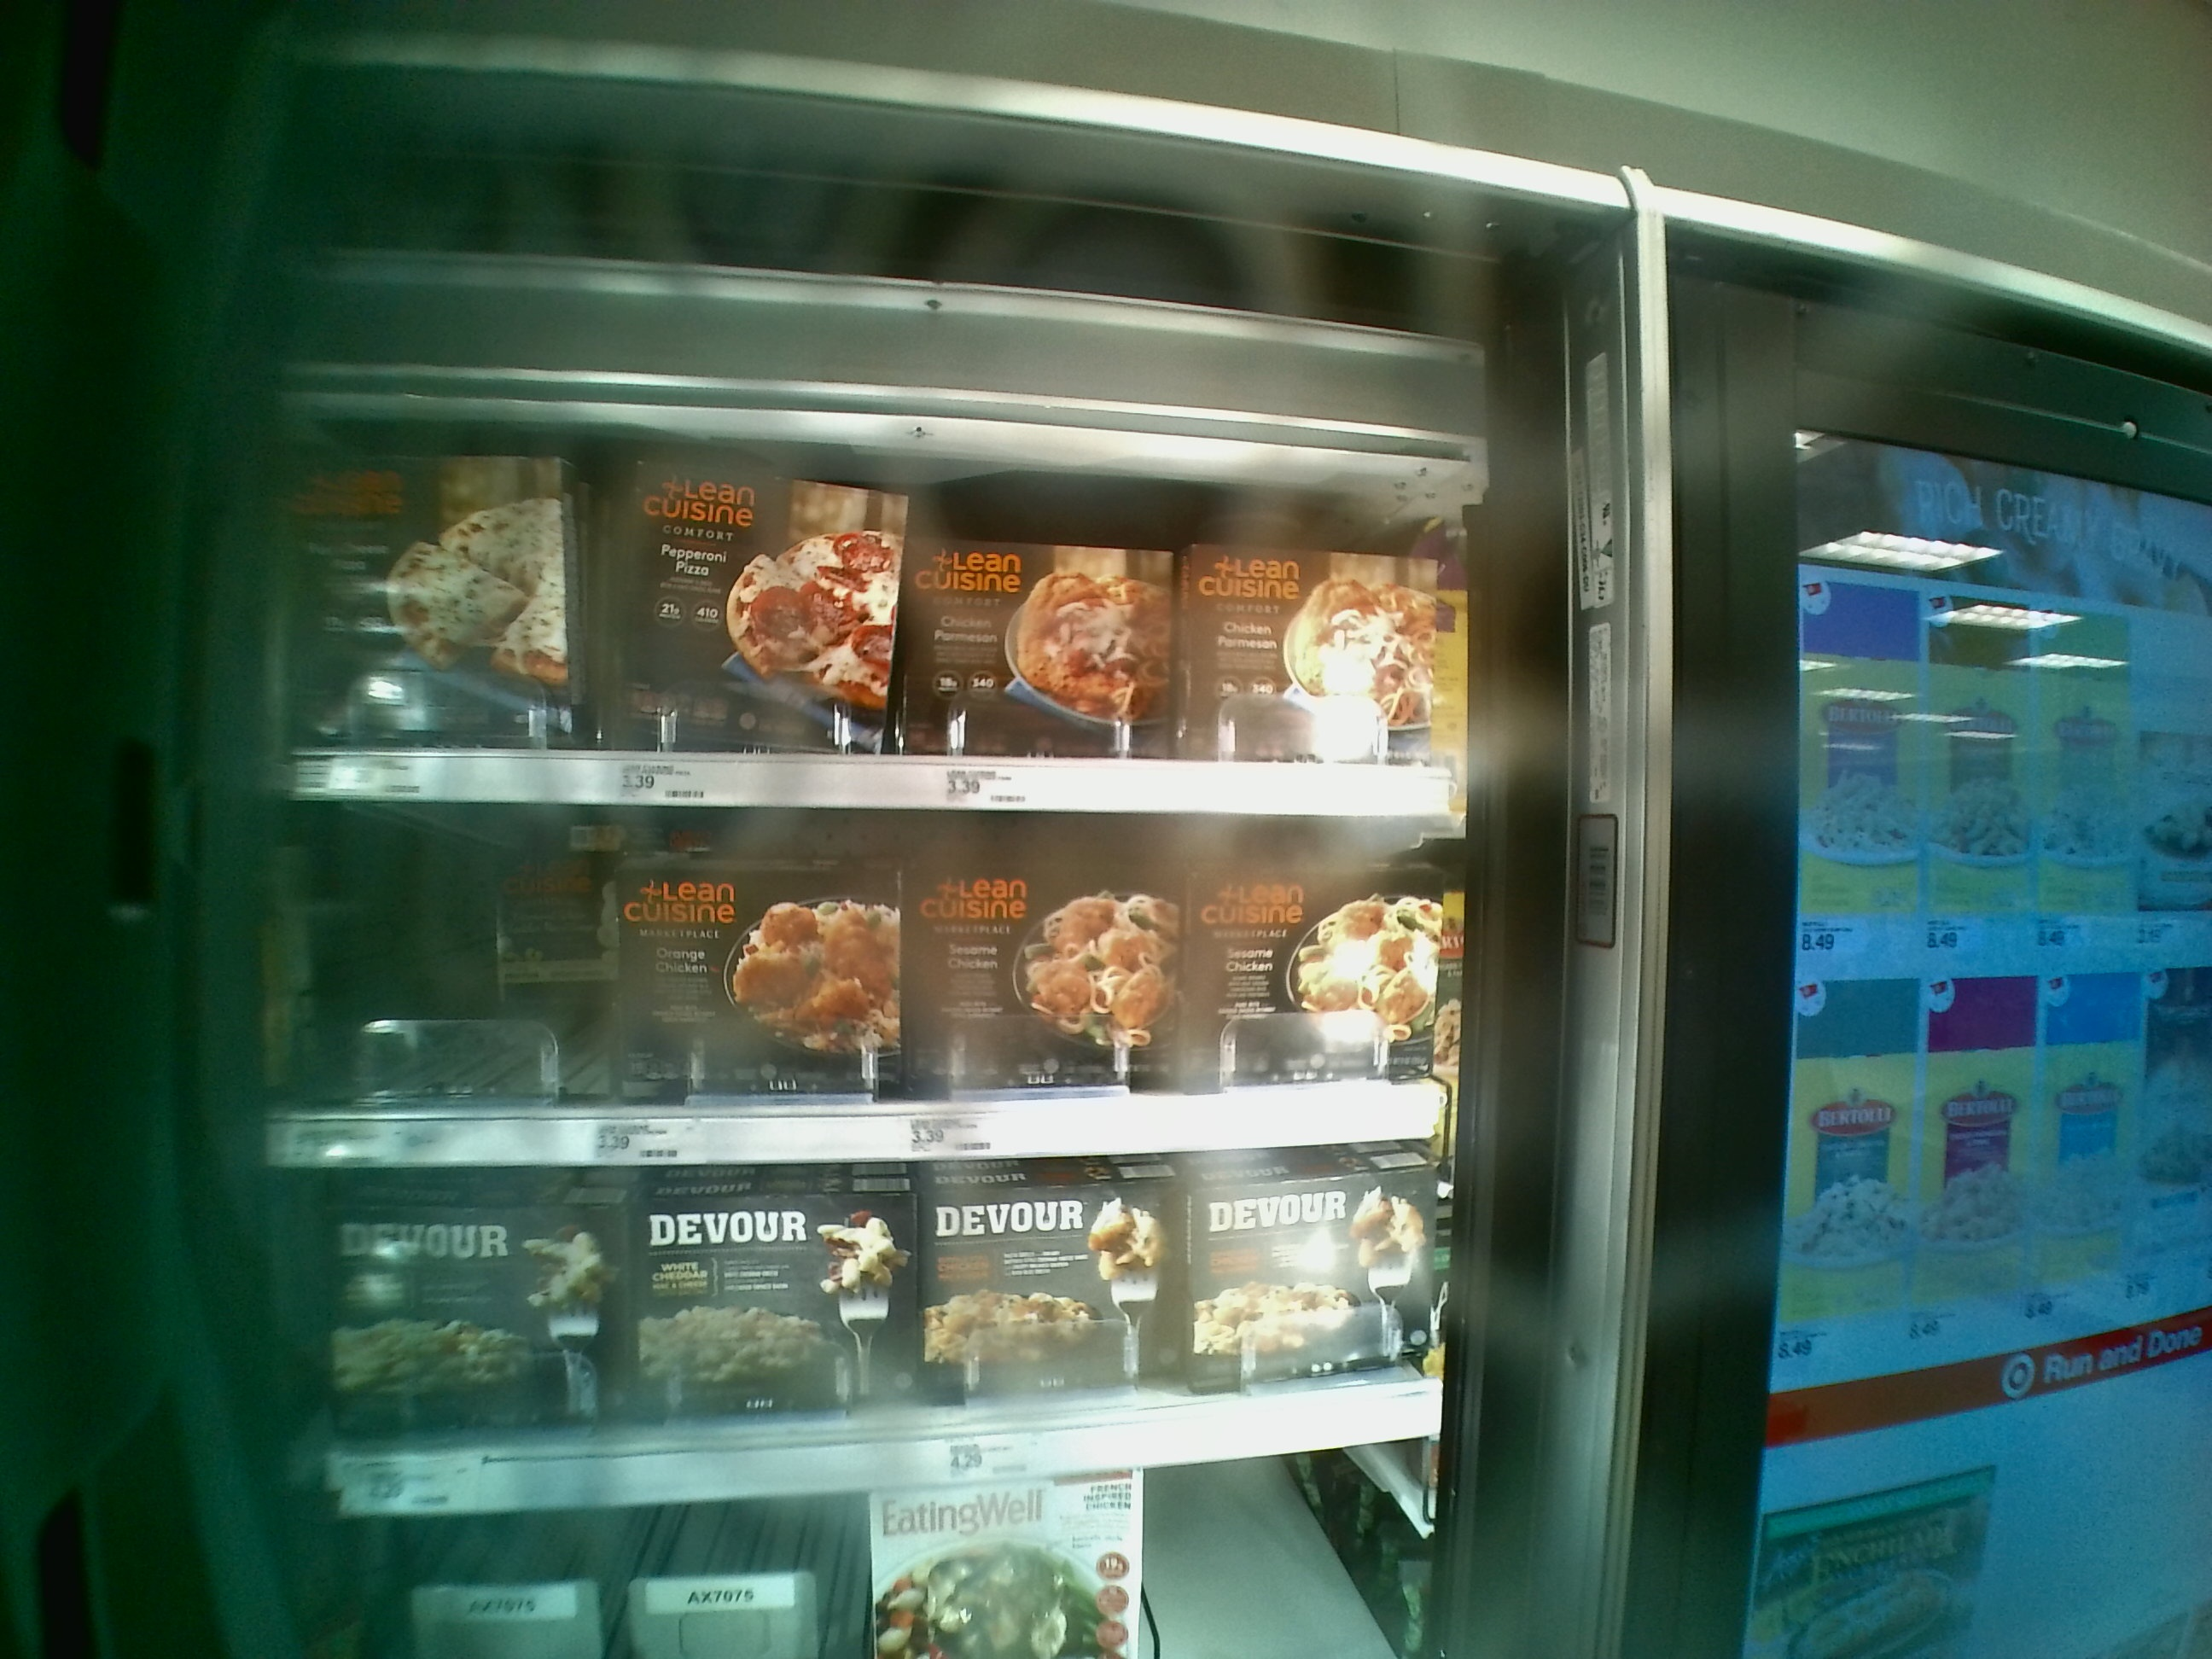shelf: (263, 401, 1460, 812), (275, 793, 1447, 1175), (263, 1140, 1444, 1516)
